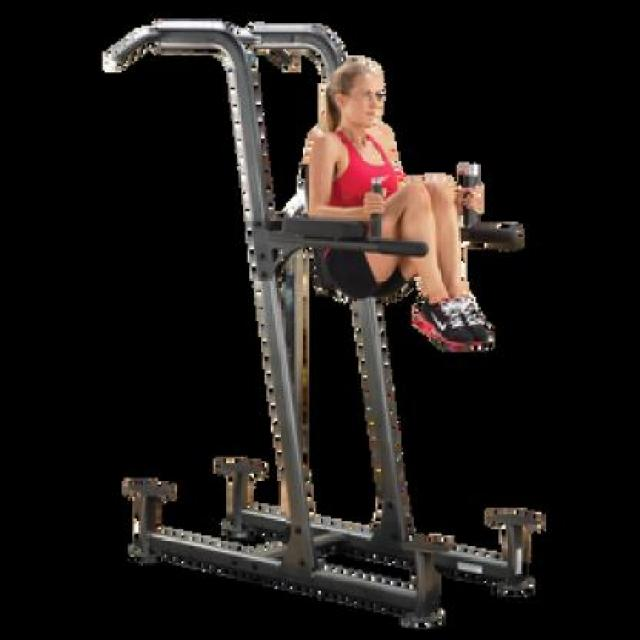chinning dipping: (105, 18, 550, 629)
